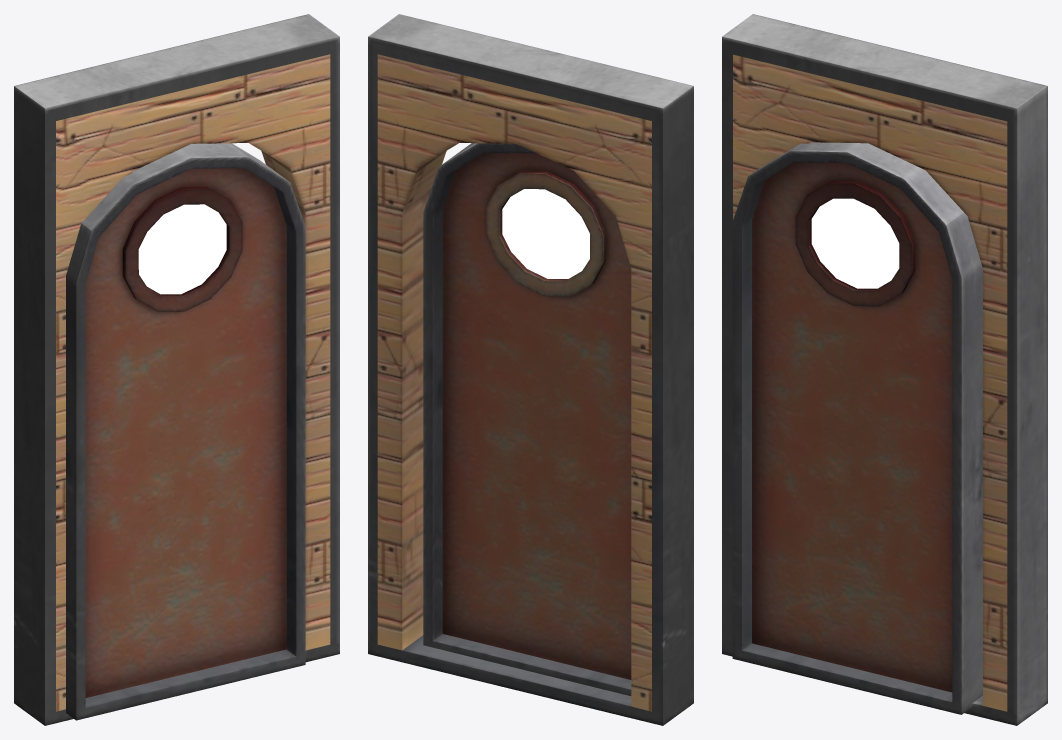
File: 1f81396e-123c-4660-8cdb-f6c94928f0b8.glb
The picture shows the model from 3 angles, left to right: view 1: azimuth 30°, elevation 25°; view 2: azimuth 150°, elevation 25°; view 3: azimuth 330°, elevation 25°; orthographic projection.
Visible parts, largest first — view 1: Door, Wall door Module; view 2: Wall door Module, Door; view 3: Door, Wall door Module.
Boxes of the visible parts, box(x1,y1,x2,y2) form: Door: box(66, 143, 305, 720); Wall door Module: box(14, 14, 339, 725); Wall door Module: box(368, 14, 693, 725); Door: box(423, 143, 631, 695); Door: box(732, 142, 982, 714); Wall door Module: box(722, 14, 1047, 725).
Size of what is drawn, in the model's own units: 2.25 by 4.5 by 0.5501.
1 material, 1 textured.
